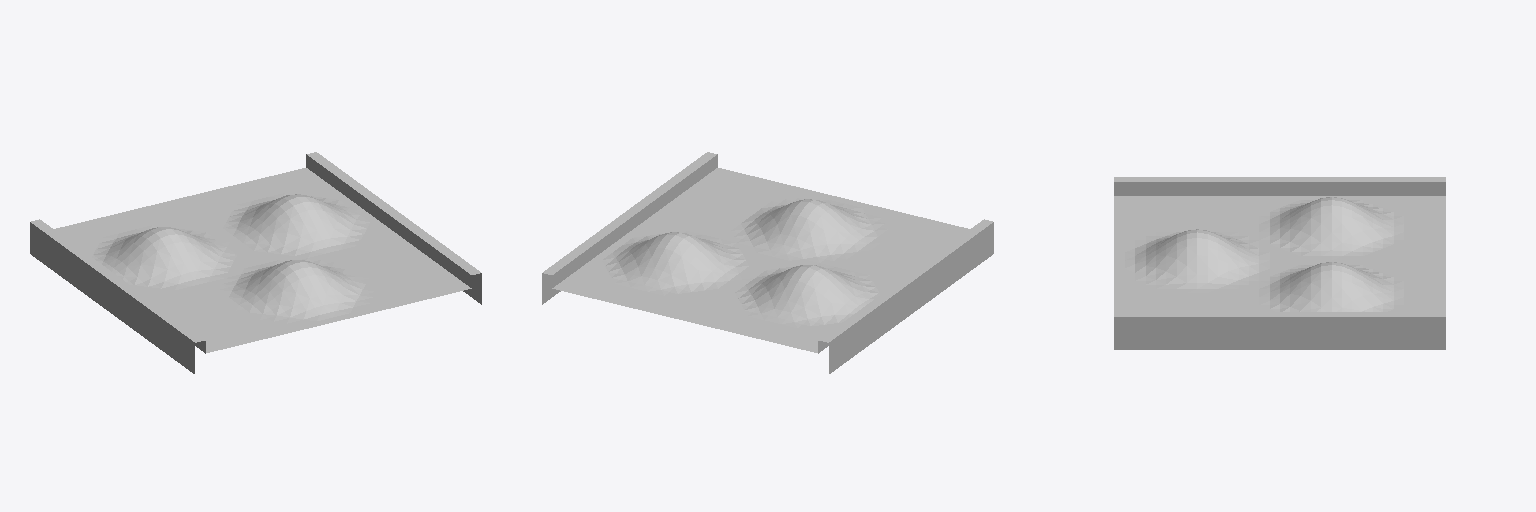
File: tripleHump_A_3x3.obj
3 renders of one model, left to right at view 1: azimuth 30°, elevation 25°; view 2: azimuth 150°, elevation 25°; view 3: azimuth 270°, elevation 25°, orthographic.
Parts seen in each view (by area): view 1: tripleHump_A_3x3; view 2: tripleHump_A_3x3; view 3: tripleHump_A_3x3.
Boxes of the visible parts, x1=… form: tripleHump_A_3x3: x1=30, y1=152, x2=481, y2=373; tripleHump_A_3x3: x1=542, y1=152, x2=993, y2=373; tripleHump_A_3x3: x1=1114, y1=177, x2=1445, y2=349.
Size of the model in its own units: 3 by 0.471 by 3.